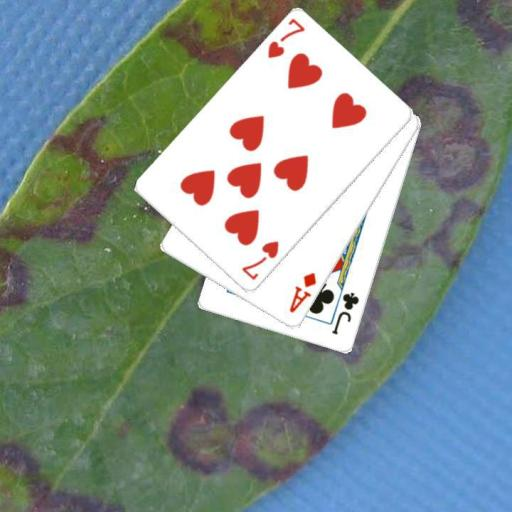7H: (238, 238, 281, 283), (265, 15, 307, 60)
AD: (286, 270, 318, 315)
JC: (329, 289, 361, 337)
